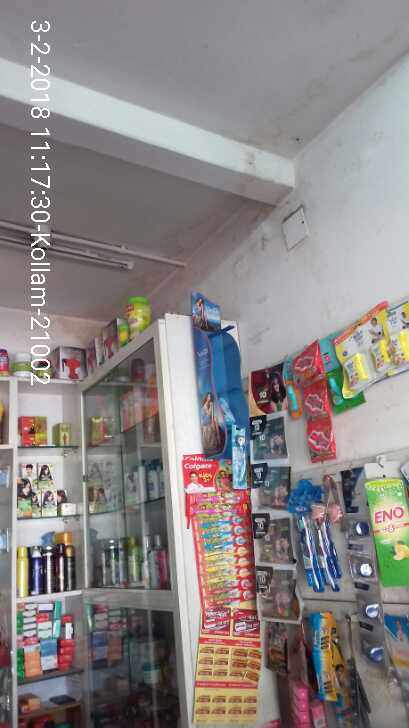reject: (241, 213, 288, 264)
